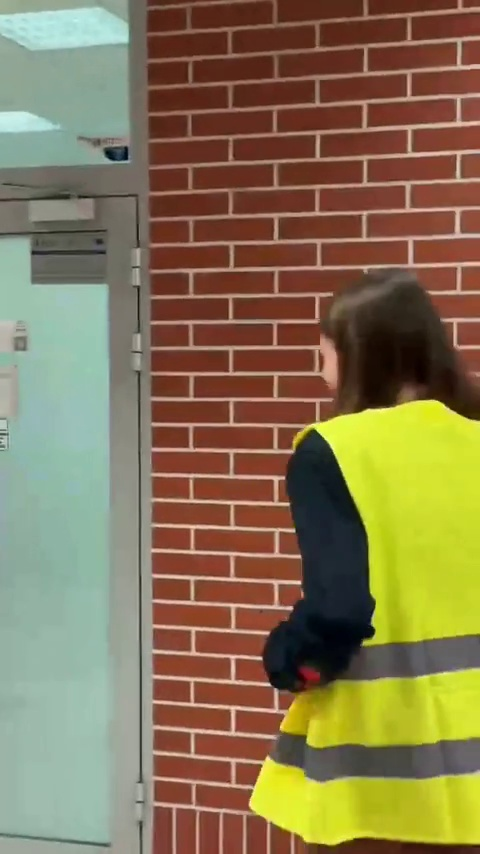vest: (245, 273, 478, 847)
